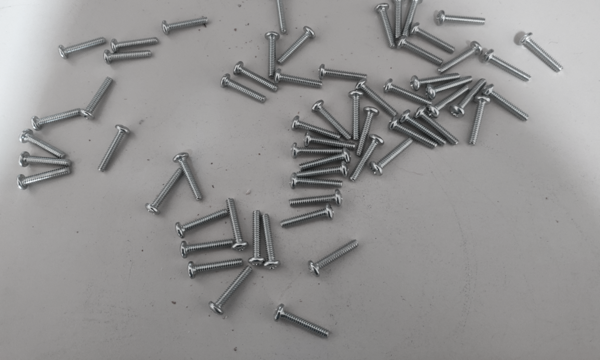longscrew: (306, 239, 362, 277), (210, 265, 251, 315), (272, 308, 332, 339), (79, 75, 115, 124), (146, 170, 187, 213), (520, 34, 565, 73), (95, 123, 130, 173), (484, 86, 532, 122), (390, 119, 434, 156), (370, 141, 415, 177), (417, 108, 461, 144), (402, 109, 446, 145), (173, 152, 207, 198), (352, 82, 400, 114), (439, 41, 485, 74), (15, 168, 69, 196), (487, 48, 532, 81), (174, 209, 227, 237), (186, 257, 244, 282), (180, 240, 238, 265), (352, 134, 382, 181), (312, 101, 351, 137), (428, 86, 471, 118), (17, 131, 67, 158), (219, 73, 265, 102), (386, 80, 433, 107), (281, 27, 317, 62), (454, 79, 486, 117), (399, 36, 442, 64), (414, 24, 454, 54), (236, 62, 278, 90), (58, 34, 105, 58), (31, 107, 78, 131), (467, 97, 490, 146), (287, 116, 342, 136), (355, 108, 376, 158), (262, 215, 281, 270), (227, 196, 246, 251), (296, 162, 350, 181), (298, 153, 351, 172), (289, 171, 342, 190), (289, 189, 342, 208), (280, 208, 333, 227), (249, 210, 267, 265), (427, 78, 473, 99), (411, 72, 457, 93), (371, 2, 393, 45), (262, 31, 283, 74), (272, 70, 321, 87), (286, 144, 345, 158), (390, 0, 412, 37), (435, 9, 489, 24), (318, 67, 367, 83), (163, 17, 212, 33), (111, 36, 160, 52), (403, 0, 425, 35), (103, 51, 151, 67), (299, 134, 358, 147), (268, 0, 289, 31), (17, 156, 77, 166)
